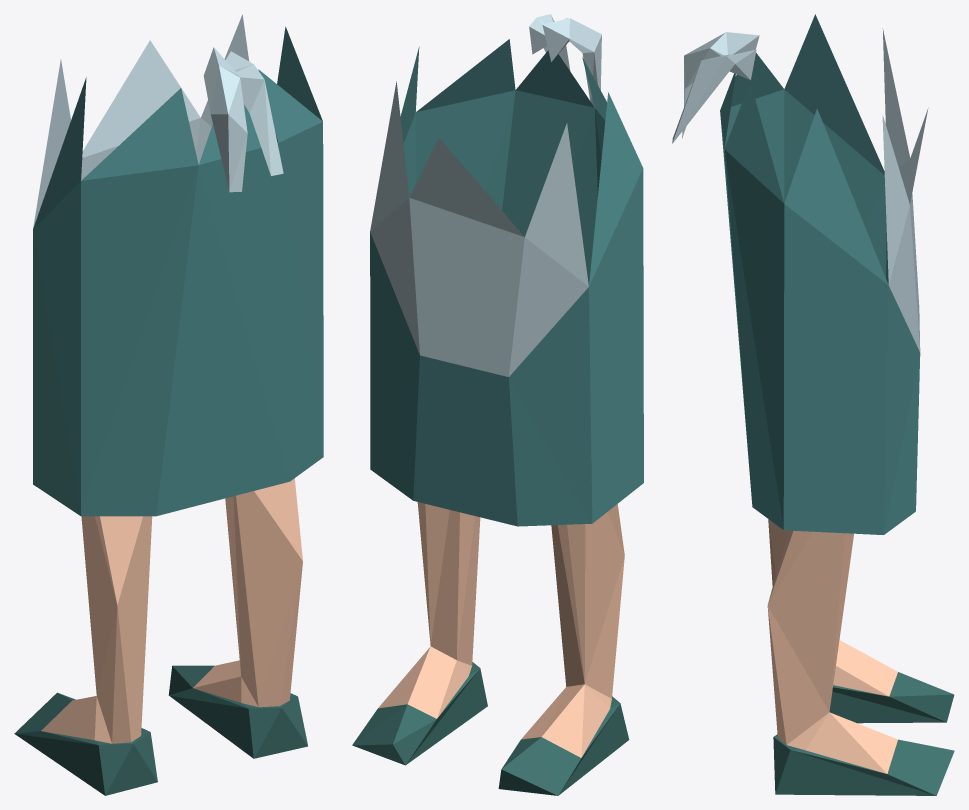
File: Legs_Lo.obj
The picture shows the model from 3 angles, left to right: view 1: azimuth 30°, elevation 25°; view 2: azimuth 150°, elevation 25°; view 3: azimuth 270°, elevation 25°; orthographic projection. The views are drawn at different scales.
Size of the model in its own units: 0.3764 by 1.08 by 0.3899.
Materials: 1 (1 with a texture image).
